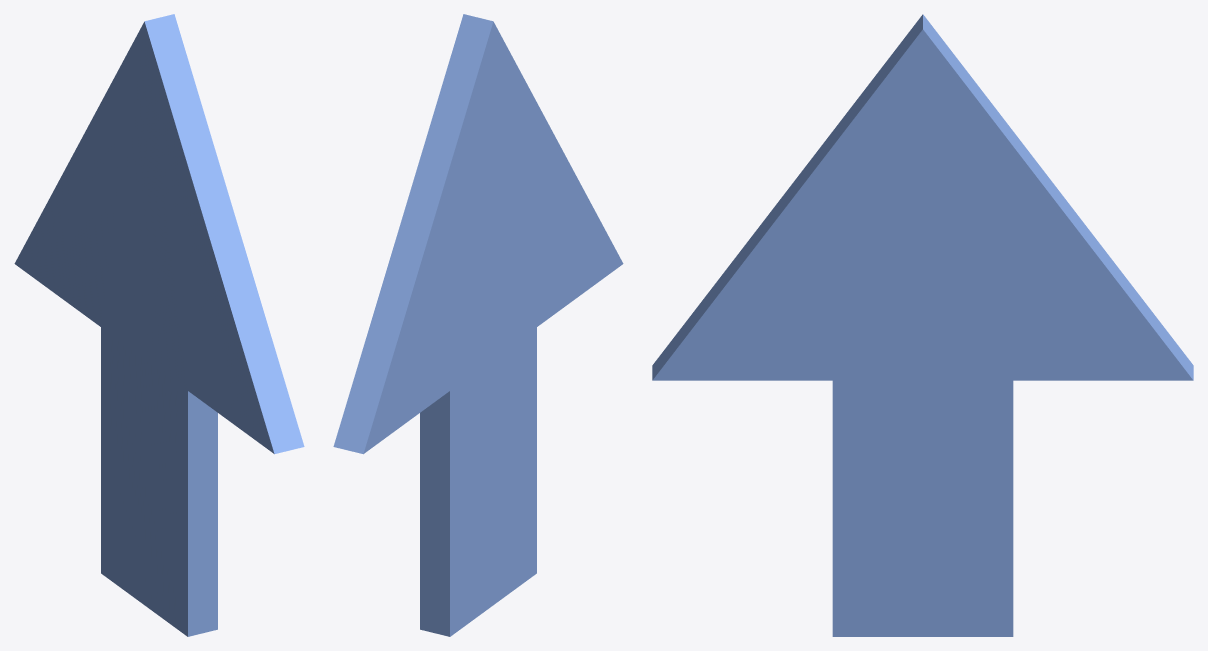
The model's file is blue_arrow.glb.
3 renders of one model, left to right at view 1: azimuth 30°, elevation 25°; view 2: azimuth 150°, elevation 25°; view 3: azimuth 270°, elevation 25°, orthographic. The views are drawn at different scales.
Visible parts, largest first — view 1: Cube; view 2: Cube; view 3: Cube.
Part boxes in pixels (bbox=[...]): Cube: bbox=[14, 14, 304, 636]; Cube: bbox=[333, 14, 623, 636]; Cube: bbox=[652, 14, 1193, 636].
Size of the model in its own units: 0.1332 by 2.48 by 2.
